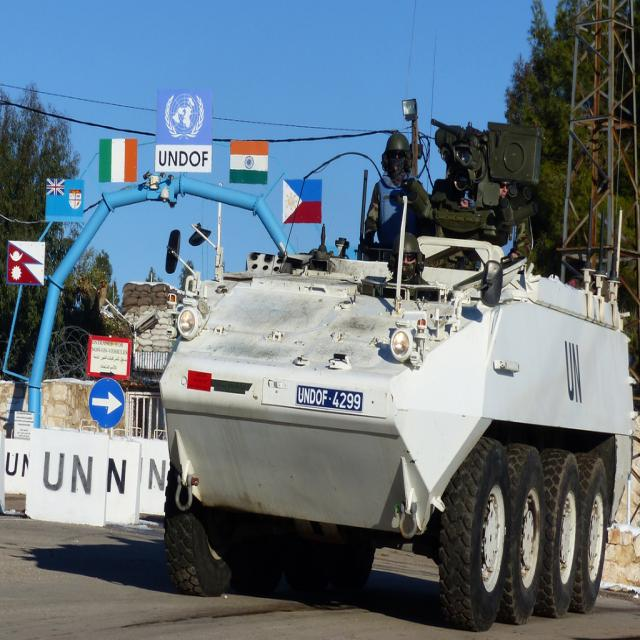tank: (155, 116, 636, 628)
